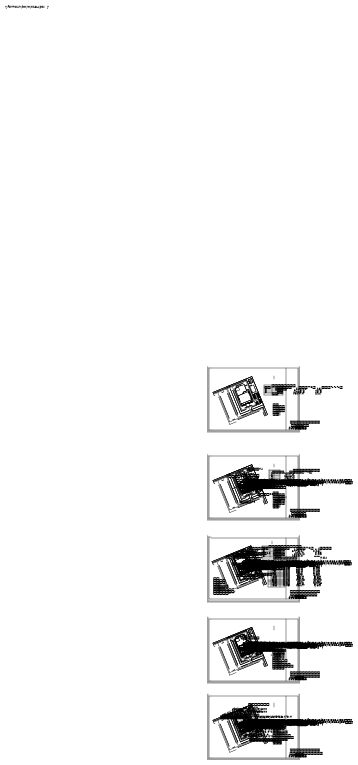door: (185, 63, 190, 66), (185, 529, 190, 531), (185, 213, 190, 215), (186, 366, 191, 368), (185, 700, 190, 702), (190, 523, 194, 525), (190, 208, 194, 210), (190, 58, 194, 60), (182, 371, 186, 373), (190, 694, 194, 696)
room: (108, 220, 139, 235), (108, 707, 139, 721), (108, 71, 139, 85), (104, 379, 135, 393), (108, 536, 139, 550), (165, 712, 189, 728), (165, 541, 189, 557), (165, 226, 189, 241), (165, 76, 189, 91), (162, 384, 186, 399), (157, 517, 180, 529), (157, 201, 180, 213), (157, 52, 180, 64), (153, 360, 176, 372), (157, 688, 180, 700), (105, 228, 127, 240), (85, 23, 107, 35), (191, 338, 213, 350), (101, 387, 124, 398), (105, 544, 127, 555), (118, 496, 140, 507), (195, 496, 217, 507), (85, 489, 107, 500), (92, 490, 114, 501), (195, 180, 217, 191), (85, 173, 107, 184), (92, 175, 114, 186), (131, 196, 153, 207), (118, 181, 140, 192), (195, 31, 217, 42), (92, 25, 114, 36), (131, 46, 153, 57), (105, 79, 127, 90), (118, 31, 140, 42), (81, 331, 103, 342), (88, 333, 110, 344), (127, 354, 149, 365), (114, 339, 136, 350), (85, 660, 107, 671), (92, 661, 114, 672), (105, 715, 127, 726), (118, 667, 140, 678), (126, 63, 143, 74), (166, 352, 188, 360), (123, 371, 139, 382), (126, 529, 143, 539), (126, 213, 143, 223), (189, 215, 203, 226), (189, 65, 203, 76), (186, 373, 200, 384), (145, 81, 160, 91), (145, 231, 160, 241), (108, 229, 126, 237), (108, 79, 126, 87), (108, 715, 126, 723), (108, 544, 126, 552), (142, 389, 156, 399), (145, 356, 162, 364), (105, 387, 122, 395), (146, 501, 161, 510), (146, 672, 161, 681), (145, 547, 160, 556), (145, 718, 160, 727), (140, 540, 159, 547), (140, 225, 159, 232), (140, 75, 159, 82), (136, 383, 155, 390), (140, 711, 159, 718), (173, 372, 186, 382), (149, 198, 165, 206), (142, 344, 158, 352), (146, 186, 161, 194), (177, 214, 189, 224), (146, 36, 161, 44), (177, 64, 189, 74), (149, 514, 165, 521), (149, 49, 165, 56), (149, 685, 165, 692), (199, 206, 211, 214), (199, 56, 211, 64), (135, 391, 145, 400), (133, 82, 143, 91), (196, 364, 207, 372), (130, 390, 139, 399), (133, 548, 143, 556), (133, 232, 143, 240), (139, 84, 148, 92), (139, 549, 148, 557), (139, 233, 148, 241), (164, 561, 174, 568), (160, 403, 170, 410), (164, 732, 174, 739), (164, 245, 174, 252), (185, 361, 195, 367), (164, 96, 174, 102), (189, 203, 198, 209), (189, 53, 198, 59), (134, 359, 145, 363), (138, 201, 148, 205), (138, 51, 148, 55), (161, 56, 172, 59), (138, 517, 148, 520), (138, 688, 148, 691), (157, 78, 163, 83), (153, 386, 159, 391), (157, 364, 169, 366), (157, 228, 163, 232), (161, 522, 172, 524), (161, 206, 172, 208), (161, 693, 172, 695), (204, 521, 211, 524), (190, 520, 197, 523), (180, 532, 187, 535), (178, 535, 185, 538), (192, 536, 199, 539), (195, 532, 202, 535), (199, 211, 206, 214), (203, 207, 210, 210), (191, 203, 198, 206), (182, 214, 189, 217), (181, 215, 188, 218), (179, 218, 186, 221), (193, 219, 200, 222), (194, 218, 201, 221), (196, 215, 203, 218), (200, 60, 207, 63), (204, 56, 211, 59), (189, 56, 196, 59), (182, 64, 189, 67), (180, 67, 187, 70), (177, 71, 184, 74), (192, 71, 199, 74), (194, 68, 201, 71), (197, 368, 204, 371), (199, 365, 206, 368), (185, 364, 192, 367), (179, 372, 186, 375), (175, 376, 182, 379), (173, 379, 180, 382), (187, 380, 194, 383), (190, 376, 197, 379), (204, 692, 211, 695), (190, 691, 197, 694), (180, 703, 187, 706), (178, 706, 185, 709), (192, 707, 199, 710), (195, 703, 202, 706), (129, 235, 134, 239), (129, 551, 134, 555), (129, 86, 134, 90), (202, 524, 208, 527), (190, 539, 196, 542), (191, 222, 197, 225), (191, 72, 197, 75), (188, 361, 194, 364), (193, 373, 199, 376), (202, 695, 208, 698), (190, 710, 196, 713), (73, 394, 82, 396), (145, 555, 153, 557), (145, 239, 153, 241), (145, 90, 153, 92), (145, 726, 153, 728), (77, 236, 85, 238), (77, 86, 85, 88), (125, 394, 130, 397), (199, 527, 206, 529), (200, 526, 207, 528), (203, 523, 210, 525), (191, 519, 198, 521), (189, 522, 196, 524), (182, 530, 189, 532), (181, 531, 188, 533), (179, 534, 186, 536), (177, 537, 184, 539), (193, 535, 200, 537), (194, 534, 201, 536), (196, 531, 203, 533), (200, 210, 207, 212), (204, 206, 211, 208), (190, 205, 197, 207), (189, 206, 196, 208), (180, 217, 187, 219), (178, 220, 185, 222), (177, 221, 184, 223), (192, 221, 199, 223), (195, 217, 202, 219), (199, 62, 206, 64), (203, 58, 210, 60), (191, 54, 198, 56), (190, 55, 197, 57), (181, 66, 188, 68), (179, 69, 186, 71), (178, 70, 185, 72), (193, 70, 200, 72), (195, 67, 202, 69), (196, 66, 203, 68), (142, 398, 149, 400), (196, 370, 203, 372), (198, 367, 205, 369), (200, 364, 207, 366), (186, 363, 193, 365), (178, 374, 185, 376), (174, 378, 181, 380), (186, 382, 193, 384), (188, 379, 195, 381), (189, 378, 196, 380), (191, 375, 198, 377), (199, 698, 206, 700), (200, 697, 207, 699), (203, 694, 210, 696), (191, 690, 198, 692), (189, 693, 196, 695), (182, 701, 189, 703), (181, 702, 188, 704), (179, 705, 186, 707), (177, 708, 184, 710), (193, 706, 200, 708), (194, 705, 201, 707), (196, 702, 203, 704), (191, 538, 197, 540), (202, 209, 208, 211), (190, 224, 196, 226), (202, 59, 208, 61), (190, 74, 196, 76), (177, 375, 183, 377), (191, 709, 197, 711), (162, 561, 165, 564), (162, 732, 165, 735), (204, 523, 208, 525), (192, 538, 196, 540), (193, 375, 197, 377), (204, 694, 208, 696), (192, 709, 196, 711), (158, 404, 162, 406), (193, 519, 196, 521), (181, 534, 184, 536), (198, 531, 201, 533), (118, 217, 120, 220), (206, 206, 209, 208), (182, 217, 185, 219), (194, 221, 197, 223), (183, 66, 186, 68), (195, 70, 198, 72), (114, 375, 116, 378), (200, 367, 203, 369), (188, 363, 191, 365), (176, 378, 179, 380), (188, 382, 191, 384), (118, 704, 120, 707), (193, 690, 196, 692), (181, 705, 184, 707), (198, 702, 201, 704), (162, 246, 165, 248), (162, 96, 165, 98), (118, 533, 120, 535), (203, 525, 207, 526), (184, 530, 188, 531), (191, 540, 195, 541), (203, 209, 207, 210), (204, 208, 208, 209), (184, 215, 188, 216), (191, 224, 195, 225), (192, 223, 196, 224), (118, 68, 120, 70), (203, 60, 207, 61), (204, 58, 208, 59), (184, 65, 188, 66), (191, 75, 195, 76), (192, 73, 196, 74), (189, 362, 193, 363), (178, 376, 182, 377), (177, 377, 181, 378), (194, 374, 198, 375), (203, 696, 207, 697), (184, 701, 188, 702), (191, 711, 195, 712), (201, 528, 204, 529), (202, 526, 205, 527), (206, 522, 209, 523), (192, 521, 195, 522), (191, 522, 194, 523), (183, 532, 186, 533), (182, 533, 185, 534), (180, 536, 183, 537), (179, 537, 182, 538), (194, 537, 197, 538), (195, 536, 198, 537), (196, 534, 199, 535), (197, 533, 200, 534), (201, 212, 204, 213), (202, 211, 205, 212), (193, 204, 196, 205), (192, 205, 195, 206), (191, 207, 194, 208), (183, 216, 186, 217), (181, 219, 184, 220), (180, 220, 183, 221), (179, 222, 182, 223), (195, 220, 198, 221), (196, 219, 199, 220), (197, 217, 200, 218), (198, 216, 201, 217), (201, 62, 204, 63), (202, 61, 205, 62), (206, 57, 209, 58), (193, 54, 196, 55), (192, 56, 195, 57), (191, 57, 194, 58), (182, 68, 185, 69), (181, 69, 184, 70), (180, 71, 183, 72), (179, 72, 182, 73), (194, 72, 197, 73), (196, 69, 199, 70), (197, 68, 200, 69), (198, 66, 201, 67), (198, 370, 201, 371), (199, 369, 202, 370), (201, 366, 204, 367), (202, 365, 205, 366), (187, 365, 190, 366), (181, 373, 184, 374), (180, 374, 183, 375), (175, 380, 178, 381), (189, 381, 192, 382), (190, 380, 193, 381), (191, 378, 194, 379), (192, 377, 195, 378), (201, 699, 204, 700), (202, 697, 205, 698), (206, 693, 209, 694), (192, 692, 195, 693), (191, 693, 194, 694), (183, 703, 186, 704), (182, 704, 185, 705), (180, 707, 183, 708), (179, 708, 182, 709), (194, 708, 197, 709), (195, 707, 198, 708), (196, 705, 199, 706), (197, 704, 200, 705)
wall: (23, 540, 173, 573), (23, 225, 173, 258), (23, 75, 173, 108), (19, 383, 169, 416), (23, 711, 173, 744), (172, 499, 233, 573), (172, 184, 233, 258), (172, 34, 233, 108), (172, 670, 233, 744), (169, 342, 229, 416), (85, 500, 133, 549), (90, 671, 133, 720), (90, 185, 133, 233), (90, 35, 133, 83), (86, 343, 129, 391), (75, 340, 116, 384), (79, 182, 119, 226), (79, 33, 119, 77), (79, 669, 119, 713), (85, 555, 172, 573), (85, 239, 172, 257), (85, 90, 172, 108), (85, 726, 172, 744), (81, 398, 169, 415), (119, 489, 202, 507), (47, 335, 82, 377), (79, 498, 113, 541), (51, 492, 85, 535), (51, 27, 85, 70), (51, 663, 85, 706), (51, 177, 85, 219), (119, 174, 202, 191), (119, 24, 202, 41), (115, 332, 198, 349), (119, 661, 202, 678), (115, 362, 169, 387), (119, 204, 172, 229), (119, 520, 172, 544), (119, 55, 172, 79), (119, 691, 172, 715), (152, 529, 182, 567), (152, 700, 182, 738), (152, 214, 182, 251), (152, 64, 182, 101), (149, 372, 179, 409), (102, 358, 129, 390), (106, 686, 132, 719), (106, 515, 132, 547), (106, 200, 132, 232), (106, 50, 132, 82), (23, 542, 85, 555), (23, 77, 85, 90), (19, 385, 81, 398), (23, 713, 85, 726), (23, 227, 85, 239), (173, 509, 217, 518), (173, 194, 217, 203), (173, 44, 217, 53), (169, 352, 213, 361), (173, 680, 217, 689), (165, 541, 189, 557), (165, 712, 189, 728), (165, 226, 189, 241), (165, 76, 189, 91), (162, 384, 186, 399), (217, 183, 233, 203), (217, 499, 233, 518), (217, 34, 233, 53), (213, 342, 229, 361), (217, 670, 233, 689), (138, 517, 172, 524), (138, 201, 172, 208), (138, 51, 172, 58), (134, 359, 168, 366), (138, 688, 172, 695), (129, 500, 160, 507), (129, 35, 160, 42), (129, 671, 160, 678), (129, 185, 160, 191), (125, 343, 156, 349), (107, 220, 119, 235), (107, 536, 119, 550), (107, 71, 119, 85), (107, 707, 119, 721), (104, 378, 115, 393), (146, 512, 173, 518), (112, 554, 139, 560), (112, 239, 139, 245), (146, 196, 173, 202), (112, 89, 139, 95), (108, 397, 135, 403), (112, 725, 139, 731), (146, 683, 173, 689), (108, 544, 126, 552), (108, 229, 126, 237), (108, 79, 126, 87), (108, 715, 126, 723), (158, 372, 169, 385), (105, 387, 122, 395), (146, 47, 173, 52), (142, 355, 169, 360), (162, 530, 172, 543), (162, 214, 172, 227), (162, 65, 172, 78), (162, 701, 172, 714), (84, 323, 109, 328), (133, 497, 157, 502), (88, 480, 112, 485), (133, 181, 157, 186), (88, 165, 112, 170), (133, 31, 157, 36), (88, 15, 112, 20), (139, 388, 149, 400), (129, 339, 153, 344), (133, 668, 157, 673), (88, 651, 112, 656), (143, 546, 152, 558), (143, 230, 152, 242), (143, 80, 152, 92), (143, 717, 152, 729), (195, 532, 203, 542), (195, 216, 203, 226), (195, 67, 203, 77), (195, 703, 203, 713), (155, 345, 174, 349), (132, 505, 150, 509), (159, 502, 177, 506), (132, 190, 150, 194), (159, 186, 177, 190), (132, 40, 150, 44), (159, 37, 177, 41), (192, 375, 200, 384), (129, 348, 147, 352), (132, 676, 150, 680), (159, 673, 177, 677), (164, 561, 174, 568), (164, 245, 174, 252), (160, 403, 170, 410), (164, 732, 174, 739), (107, 550, 123, 554), (107, 721, 123, 725), (164, 96, 174, 102), (147, 54, 161, 58), (173, 372, 180, 380), (177, 529, 183, 538), (177, 64, 183, 73), (177, 700, 183, 709), (144, 362, 157, 366), (78, 543, 84, 551), (205, 522, 211, 530), (171, 561, 177, 569), (177, 214, 183, 222), (171, 246, 177, 254), (107, 235, 123, 238), (78, 228, 84, 236), (171, 96, 177, 104), (107, 85, 123, 88), (78, 78, 84, 86), (167, 404, 173, 412), (104, 393, 120, 396), (74, 386, 80, 394), (171, 732, 177, 740), (78, 714, 84, 722), (114, 553, 129, 556), (114, 237, 129, 240), (114, 88, 129, 91), (111, 395, 126, 398), (114, 724, 129, 727), (139, 543, 153, 546), (147, 520, 161, 523), (205, 207, 211, 214), (139, 227, 153, 230), (147, 204, 161, 207), (205, 57, 211, 64), (139, 77, 153, 80), (212, 339, 218, 346), (135, 385, 149, 388), (144, 362, 158, 365), (205, 694, 211, 701), (139, 714, 153, 717), (147, 691, 161, 694), (130, 555, 143, 558), (148, 519, 161, 522), (130, 239, 143, 242), (158, 251, 171, 254), (148, 204, 161, 207), (162, 205, 175, 208), (130, 90, 143, 93), (158, 101, 171, 104), (148, 54, 161, 57), (126, 397, 139, 400), (130, 726, 143, 729), (148, 690, 161, 693), (137, 200, 149, 203), (165, 243, 177, 246), (221, 181, 233, 184), (137, 50, 149, 53), (221, 31, 233, 34), (133, 358, 145, 361), (161, 401, 173, 404), (155, 409, 167, 412), (159, 363, 171, 366), (217, 339, 229, 342), (165, 730, 177, 733), (216, 181, 221, 188), (23, 220, 28, 227), (216, 31, 221, 38), (202, 365, 207, 372), (216, 497, 221, 503), (23, 536, 28, 542), (135, 201, 145, 204), (164, 207, 174, 210), (138, 51, 148, 54), (23, 71, 28, 77), (19, 379, 24, 385), (216, 668, 221, 674), (23, 707, 28, 713), (158, 567, 171, 569), (162, 521, 175, 523), (162, 56, 175, 58), (158, 738, 171, 740), (162, 692, 175, 694), (122, 524, 127, 529), (122, 209, 127, 214), (122, 59, 127, 64), (122, 695, 127, 700), (137, 516, 149, 518), (165, 559, 177, 561), (221, 497, 233, 499), (165, 94, 177, 96), (137, 687, 149, 689), (221, 668, 233, 670), (134, 359, 145, 361), (158, 364, 169, 366), (162, 554, 172, 556), (135, 517, 145, 519), (138, 517, 148, 519), (164, 523, 174, 525), (162, 516, 166, 521), (162, 522, 172, 524), (162, 239, 172, 241), (138, 201, 148, 203), (149, 198, 153, 203), (162, 206, 172, 208), (135, 52, 145, 54), (162, 89, 172, 91), (162, 51, 166, 56), (149, 48, 153, 53), (164, 58, 174, 60), (162, 56, 172, 58), (131, 360, 141, 362), (119, 367, 123, 372), (145, 356, 149, 361), (160, 366, 170, 368), (135, 688, 145, 690), (162, 725, 172, 727), (162, 687, 166, 692), (138, 688, 148, 690), (164, 694, 174, 696), (162, 693, 172, 695), (162, 555, 171, 557), (162, 239, 171, 241), (162, 90, 171, 92), (159, 397, 168, 399), (158, 398, 167, 400), (162, 726, 171, 728), (149, 514, 153, 518), (57, 542, 65, 544), (162, 201, 166, 205), (57, 713, 65, 715), (149, 685, 153, 689), (189, 53, 192, 58), (185, 361, 188, 366), (100, 489, 107, 491), (199, 203, 206, 205), (182, 224, 189, 226), (178, 382, 185, 384), (100, 660, 107, 662), (195, 533, 201, 535), (193, 536, 199, 538), (190, 521, 196, 523), (181, 532, 187, 534), (178, 536, 184, 538), (201, 525, 207, 527), (123, 554, 129, 556), (183, 529, 189, 531), (199, 528, 205, 530), (189, 519, 192, 523), (189, 203, 192, 207), (189, 207, 195, 209), (200, 211, 206, 213), (182, 215, 188, 217), (194, 219, 200, 221), (177, 222, 183, 224), (192, 53, 198, 55), (197, 65, 203, 67), (204, 57, 210, 59), (192, 72, 198, 74), (189, 75, 195, 77), (180, 68, 186, 70), (158, 98, 161, 102), (194, 373, 200, 375), (197, 369, 203, 371), (200, 365, 206, 367), (190, 377, 196, 379), (188, 380, 194, 382), (176, 376, 182, 378), (173, 380, 179, 382), (154, 402, 160, 404), (159, 359, 162, 363), (189, 690, 192, 694), (123, 725, 129, 727), (199, 699, 205, 701), (201, 696, 207, 698), (205, 692, 211, 694), (183, 700, 189, 702), (181, 703, 187, 705), (193, 707, 199, 709), (178, 707, 184, 709), (162, 561, 165, 564), (161, 561, 164, 564), (158, 564, 161, 567), (132, 517, 135, 520), (132, 201, 135, 204), (158, 248, 161, 251), (161, 245, 164, 248), (132, 52, 135, 55), (161, 95, 164, 98), (139, 397, 142, 400), (153, 387, 156, 390), (155, 406, 158, 409), (162, 732, 165, 735), (132, 688, 135, 691), (158, 735, 161, 738), (161, 732, 164, 735), (57, 227, 65, 228), (57, 77, 65, 78), (96, 332, 104, 333), (158, 404, 162, 406), (190, 539, 197, 540), (182, 540, 189, 541), (199, 519, 206, 520), (100, 174, 107, 175), (190, 224, 197, 225), (100, 24, 107, 25), (199, 54, 206, 55), (190, 74, 197, 75), (182, 75, 189, 76), (54, 385, 61, 386), (195, 362, 202, 363), (199, 690, 206, 691), (190, 710, 197, 711), (182, 711, 189, 712), (196, 532, 202, 533), (194, 535, 200, 536), (179, 535, 185, 536), (191, 520, 197, 521), (182, 531, 188, 532), (180, 534, 186, 535), (192, 538, 198, 539), (200, 527, 206, 528), (203, 524, 209, 525), (204, 523, 210, 524), (157, 544, 159, 547), (139, 540, 141, 543), (143, 555, 145, 558), (113, 552, 115, 555), (164, 561, 166, 564), (172, 525, 174, 528), (177, 538, 183, 539), (197, 531, 203, 532), (205, 521, 211, 522), (192, 519, 198, 520), (189, 523, 195, 524), (197, 528, 199, 531), (189, 541, 195, 542), (162, 246, 165, 248), (123, 239, 129, 240), (113, 236, 115, 239), (111, 236, 113, 239), (143, 239, 145, 242), (190, 206, 196, 207), (191, 205, 197, 206), (192, 203, 198, 204), (196, 217, 202, 218), (197, 215, 203, 216), (199, 213, 205, 214), (201, 210, 207, 211), (203, 209, 209, 210), (204, 207, 210, 208), (205, 206, 211, 207), (183, 214, 189, 215), (195, 218, 201, 219), (181, 217, 187, 218), (193, 221, 199, 222), (192, 222, 198, 223), (189, 225, 195, 226), (180, 218, 186, 219), (179, 220, 185, 221), (178, 221, 184, 222), (157, 229, 159, 232), (170, 192, 173, 194), (84, 237, 87, 239), (162, 96, 165, 98), (123, 89, 129, 90), (111, 86, 113, 89), (143, 90, 145, 93), (189, 58, 195, 59), (190, 56, 196, 57), (191, 55, 197, 56), (196, 67, 202, 68), (199, 63, 205, 64), (200, 62, 206, 63), (201, 60, 207, 61), (203, 59, 209, 60), (205, 56, 211, 57), (183, 64, 189, 65), (195, 68, 201, 69), (182, 66, 188, 67), (194, 70, 200, 71), (181, 67, 187, 68), (193, 71, 199, 72), (179, 70, 185, 71), (178, 71, 184, 72), (177, 73, 183, 74), (157, 79, 159, 82), (172, 60, 174, 63), (275, 506, 278, 508), (119, 397, 125, 398), (108, 394, 110, 397), (185, 366, 191, 367), (186, 364, 192, 365), (187, 363, 193, 364), (188, 361, 194, 362), (192, 375, 198, 376), (196, 371, 202, 372), (198, 368, 204, 369), (199, 367, 205, 368), (201, 364, 207, 365), (180, 372, 186, 373), (191, 376, 197, 377), (179, 374, 185, 375), (178, 375, 184, 376), (189, 379, 195, 380), (187, 382, 193, 383), (186, 383, 192, 384), (175, 378, 181, 379), (174, 379, 180, 380), (152, 405, 158, 406), (158, 403, 160, 406), (211, 356, 217, 357), (168, 368, 170, 371), (166, 350, 169, 352), (197, 699, 199, 702), (113, 723, 115, 726), (143, 726, 145, 729), (189, 694, 195, 695), (190, 693, 196, 694), (191, 691, 197, 692), (192, 690, 198, 691), (196, 703, 202, 704), (197, 702, 203, 703), (200, 698, 206, 699), (203, 695, 209, 696), (204, 694, 210, 695), (195, 705, 201, 706), (182, 702, 188, 703), (194, 706, 200, 707), (192, 709, 198, 710), (189, 712, 195, 713), (180, 705, 186, 706), (179, 706, 185, 707), (177, 709, 183, 710), (157, 715, 159, 718), (139, 711, 141, 714), (164, 732, 166, 735), (172, 696, 174, 699), (84, 724, 87, 726), (158, 560, 163, 561), (156, 562, 161, 563), (215, 514, 220, 515), (156, 247, 161, 248), (158, 244, 163, 245), (215, 198, 220, 199), (156, 97, 161, 98), (158, 95, 163, 96), (215, 48, 220, 49), (156, 733, 161, 734), (158, 731, 163, 732), (215, 685, 220, 686), (111, 552, 113, 554), (137, 516, 139, 518), (76, 551, 78, 553), (139, 541, 141, 543), (163, 559, 165, 561), (171, 523, 173, 525), (173, 523, 175, 525), (197, 213, 199, 215), (76, 236, 78, 238), (137, 200, 139, 202), (135, 200, 137, 202), (161, 248, 165, 249), (139, 225, 141, 227), (164, 246, 166, 248), (163, 243, 165, 245), (172, 210, 174, 212), (171, 207, 173, 209), (163, 234, 165, 236), (197, 63, 199, 65), (113, 87, 115, 89), (160, 56, 162, 58), (76, 86, 78, 88), (135, 50, 137, 52), (161, 98, 165, 99), (139, 75, 141, 77), (164, 96, 166, 98), (173, 58, 175, 60), (273, 506, 275, 508), (194, 371, 196, 373), (109, 395, 111, 397), (72, 394, 74, 396), (129, 360, 131, 362), (158, 406, 162, 407), (167, 398, 169, 400), (136, 383, 138, 385), (161, 404, 163, 406), (169, 385, 171, 387), (169, 366, 171, 368), (111, 723, 113, 725), (76, 722, 78, 724), (137, 687, 139, 689), (139, 712, 141, 714), (163, 730, 165, 732), (171, 694, 173, 696), (173, 694, 175, 696), (170, 508, 173, 509), (84, 553, 87, 554), (106, 238, 109, 239), (170, 43, 173, 44), (84, 88, 87, 89), (81, 396, 84, 397), (170, 679, 173, 680), (171, 555, 172, 557), (160, 522, 162, 523), (135, 516, 137, 517), (152, 545, 153, 547), (172, 542, 173, 544), (139, 541, 140, 543), (160, 206, 162, 207), (139, 225, 140, 227), (147, 203, 148, 205), (173, 208, 175, 209), (104, 232, 105, 234), (114, 219, 115, 221), (122, 204, 123, 206), (133, 193, 134, 195), (154, 195, 155, 197), (160, 192, 161, 194), (173, 217, 174, 219), (94, 234, 95, 236), (190, 220, 191, 222), (188, 223, 189, 225), (137, 51, 139, 52), (171, 90, 172, 92), (139, 76, 141, 77), (163, 94, 165, 95), (173, 77, 174, 79), (172, 77, 173, 79), (171, 58, 173, 59), (272, 208, 274, 209), (274, 208, 276, 209), (157, 364, 158, 366), (134, 358, 135, 360), (132, 358, 133, 360), (136, 383, 137, 385), (135, 384, 137, 385), (160, 401, 161, 403), (144, 361, 145, 363), (168, 385, 170, 386), (160, 693, 162, 694), (135, 687, 137, 688), (171, 726, 172, 728), (152, 716, 153, 718), (139, 712, 140, 714), (172, 713, 173, 715), (147, 519, 148, 520), (173, 543, 174, 544), (171, 240, 172, 241), (152, 230, 153, 231), (173, 227, 174, 228), (172, 227, 173, 228), (119, 241, 120, 242), (109, 226, 110, 227), (117, 210, 118, 211), (126, 199, 127, 200), (143, 194, 144, 195), (158, 241, 159, 242), (169, 228, 170, 229), (168, 223, 169, 224), (177, 212, 178, 213), (179, 206, 180, 207), (199, 205, 200, 206), (196, 208, 197, 209), (152, 80, 153, 81), (139, 76, 140, 77), (147, 54, 148, 55), (172, 77, 173, 78), (148, 388, 149, 389), (168, 385, 169, 386), (168, 366, 169, 367), (147, 690, 148, 691), (173, 714, 174, 715), (161, 564, 165, 564), (161, 735, 165, 735)
window: (131, 512, 153, 524), (50, 531, 72, 543), (108, 321, 130, 333), (54, 375, 76, 387), (50, 702, 72, 714), (131, 683, 153, 695), (132, 549, 154, 560), (84, 538, 106, 549), (112, 479, 134, 490), (58, 533, 80, 544), (112, 163, 134, 174), (58, 217, 80, 228), (50, 216, 72, 227), (84, 223, 106, 234), (132, 234, 154, 245), (112, 14, 134, 25), (58, 68, 80, 79), (50, 66, 72, 77), (84, 73, 106, 84), (132, 84, 154, 95), (47, 374, 69, 385), (80, 381, 102, 392), (128, 392, 150, 403), (127, 356, 149, 367), (112, 650, 134, 661), (195, 667, 217, 678), (58, 704, 80, 715), (84, 709, 106, 720), (132, 720, 154, 731), (131, 197, 152, 208), (131, 48, 152, 59), (85, 539, 106, 549), (86, 226, 100, 233), (86, 77, 100, 84), (82, 384, 96, 391), (86, 713, 100, 720), (182, 528, 190, 532), (182, 212, 190, 216), (182, 63, 190, 67), (178, 371, 186, 375), (182, 699, 190, 703), (184, 364, 191, 368), (188, 206, 194, 210), (188, 56, 194, 60), (188, 522, 194, 525), (181, 371, 187, 374), (188, 693, 194, 696), (185, 528, 190, 531), (185, 213, 190, 216), (185, 63, 190, 66), (185, 699, 190, 702)
